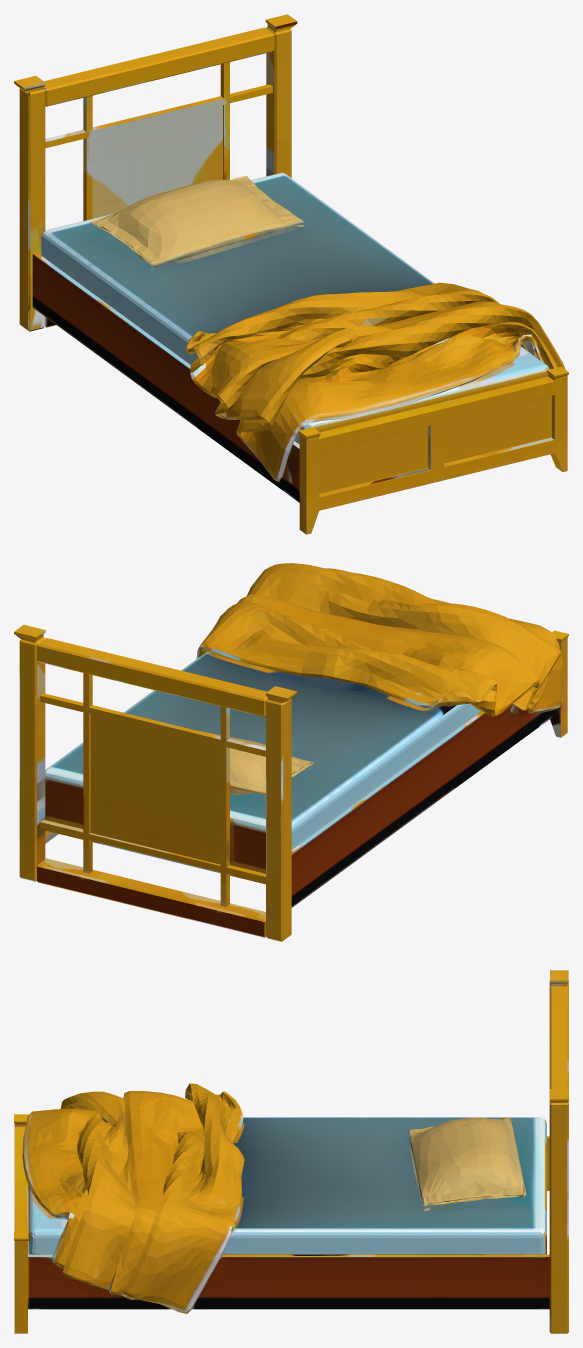
Rendered from edited_mesh.glb.
The picture shows the model from 3 angles, top to bottom: view 1: azimuth 30°, elevation 25°; view 2: azimuth 150°, elevation 25°; view 3: azimuth 270°, elevation 25°; orthographic projection. The views are drawn at different scales.
Visible parts, largest first — view 1: solid_001_wire; view 2: solid_001_wire; view 3: solid_001_wire.
Boxes of the visible parts, x1,y1,x2,y2 form: solid_001_wire: (14,14,568,534); solid_001_wire: (14,563,568,941); solid_001_wire: (14,970,568,1333).
Size of the model in its own units: 1.29 by 0.9447 by 2.
1 material, 1 textured.
